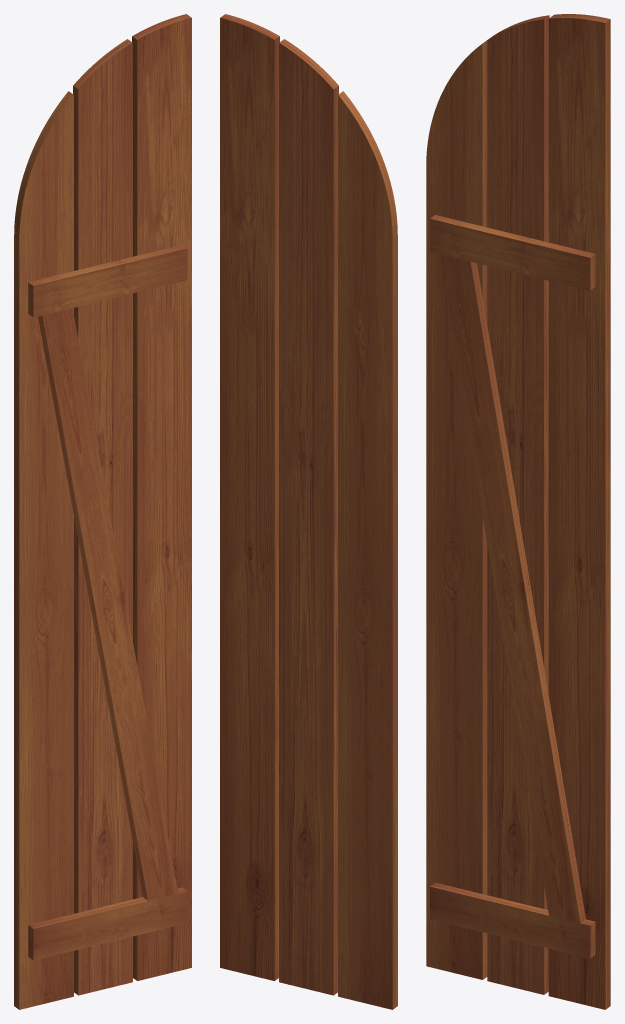
The model's file is ss3_left.obj.
The picture shows the model from 3 angles, left to right: view 1: azimuth 30°, elevation 25°; view 2: azimuth 150°, elevation 25°; view 3: azimuth 330°, elevation 25°; orthographic projection. The views are drawn at different scales.
Parts seen in each view (by area): view 1: shutter008, shutter006, shutter007, shutter004, shutter005, shutter002; view 2: shutter008, shutter007, shutter006; view 3: shutter008, shutter006, shutter007, shutter004, shutter005, shutter002.
Part boxes in pixels (left/top/right/bottom): shutter008: left=132, top=14, right=191, bottom=980; shutter006: left=14, top=91, right=73, bottom=1009; shutter007: left=73, top=39, right=132, bottom=995; shutter004: left=38, top=308, right=178, bottom=900; shutter005: left=28, top=244, right=187, bottom=317; shutter002: left=28, top=887, right=187, bottom=960; shutter008: left=220, top=14, right=279, bottom=980; shutter007: left=279, top=39, right=338, bottom=995; shutter006: left=338, top=91, right=397, bottom=1009; shutter008: left=548, top=14, right=610, bottom=1009; shutter006: left=426, top=40, right=487, bottom=979; shutter007: left=487, top=15, right=549, bottom=994; shutter004: left=439, top=254, right=585, bottom=923; shutter005: left=430, top=215, right=595, bottom=290; shutter002: left=430, top=882, right=595, bottom=958.
Bounding box in the file's own units: 14.25 × 75 × 1.5.
Materials: 6 (6 with a texture image).
